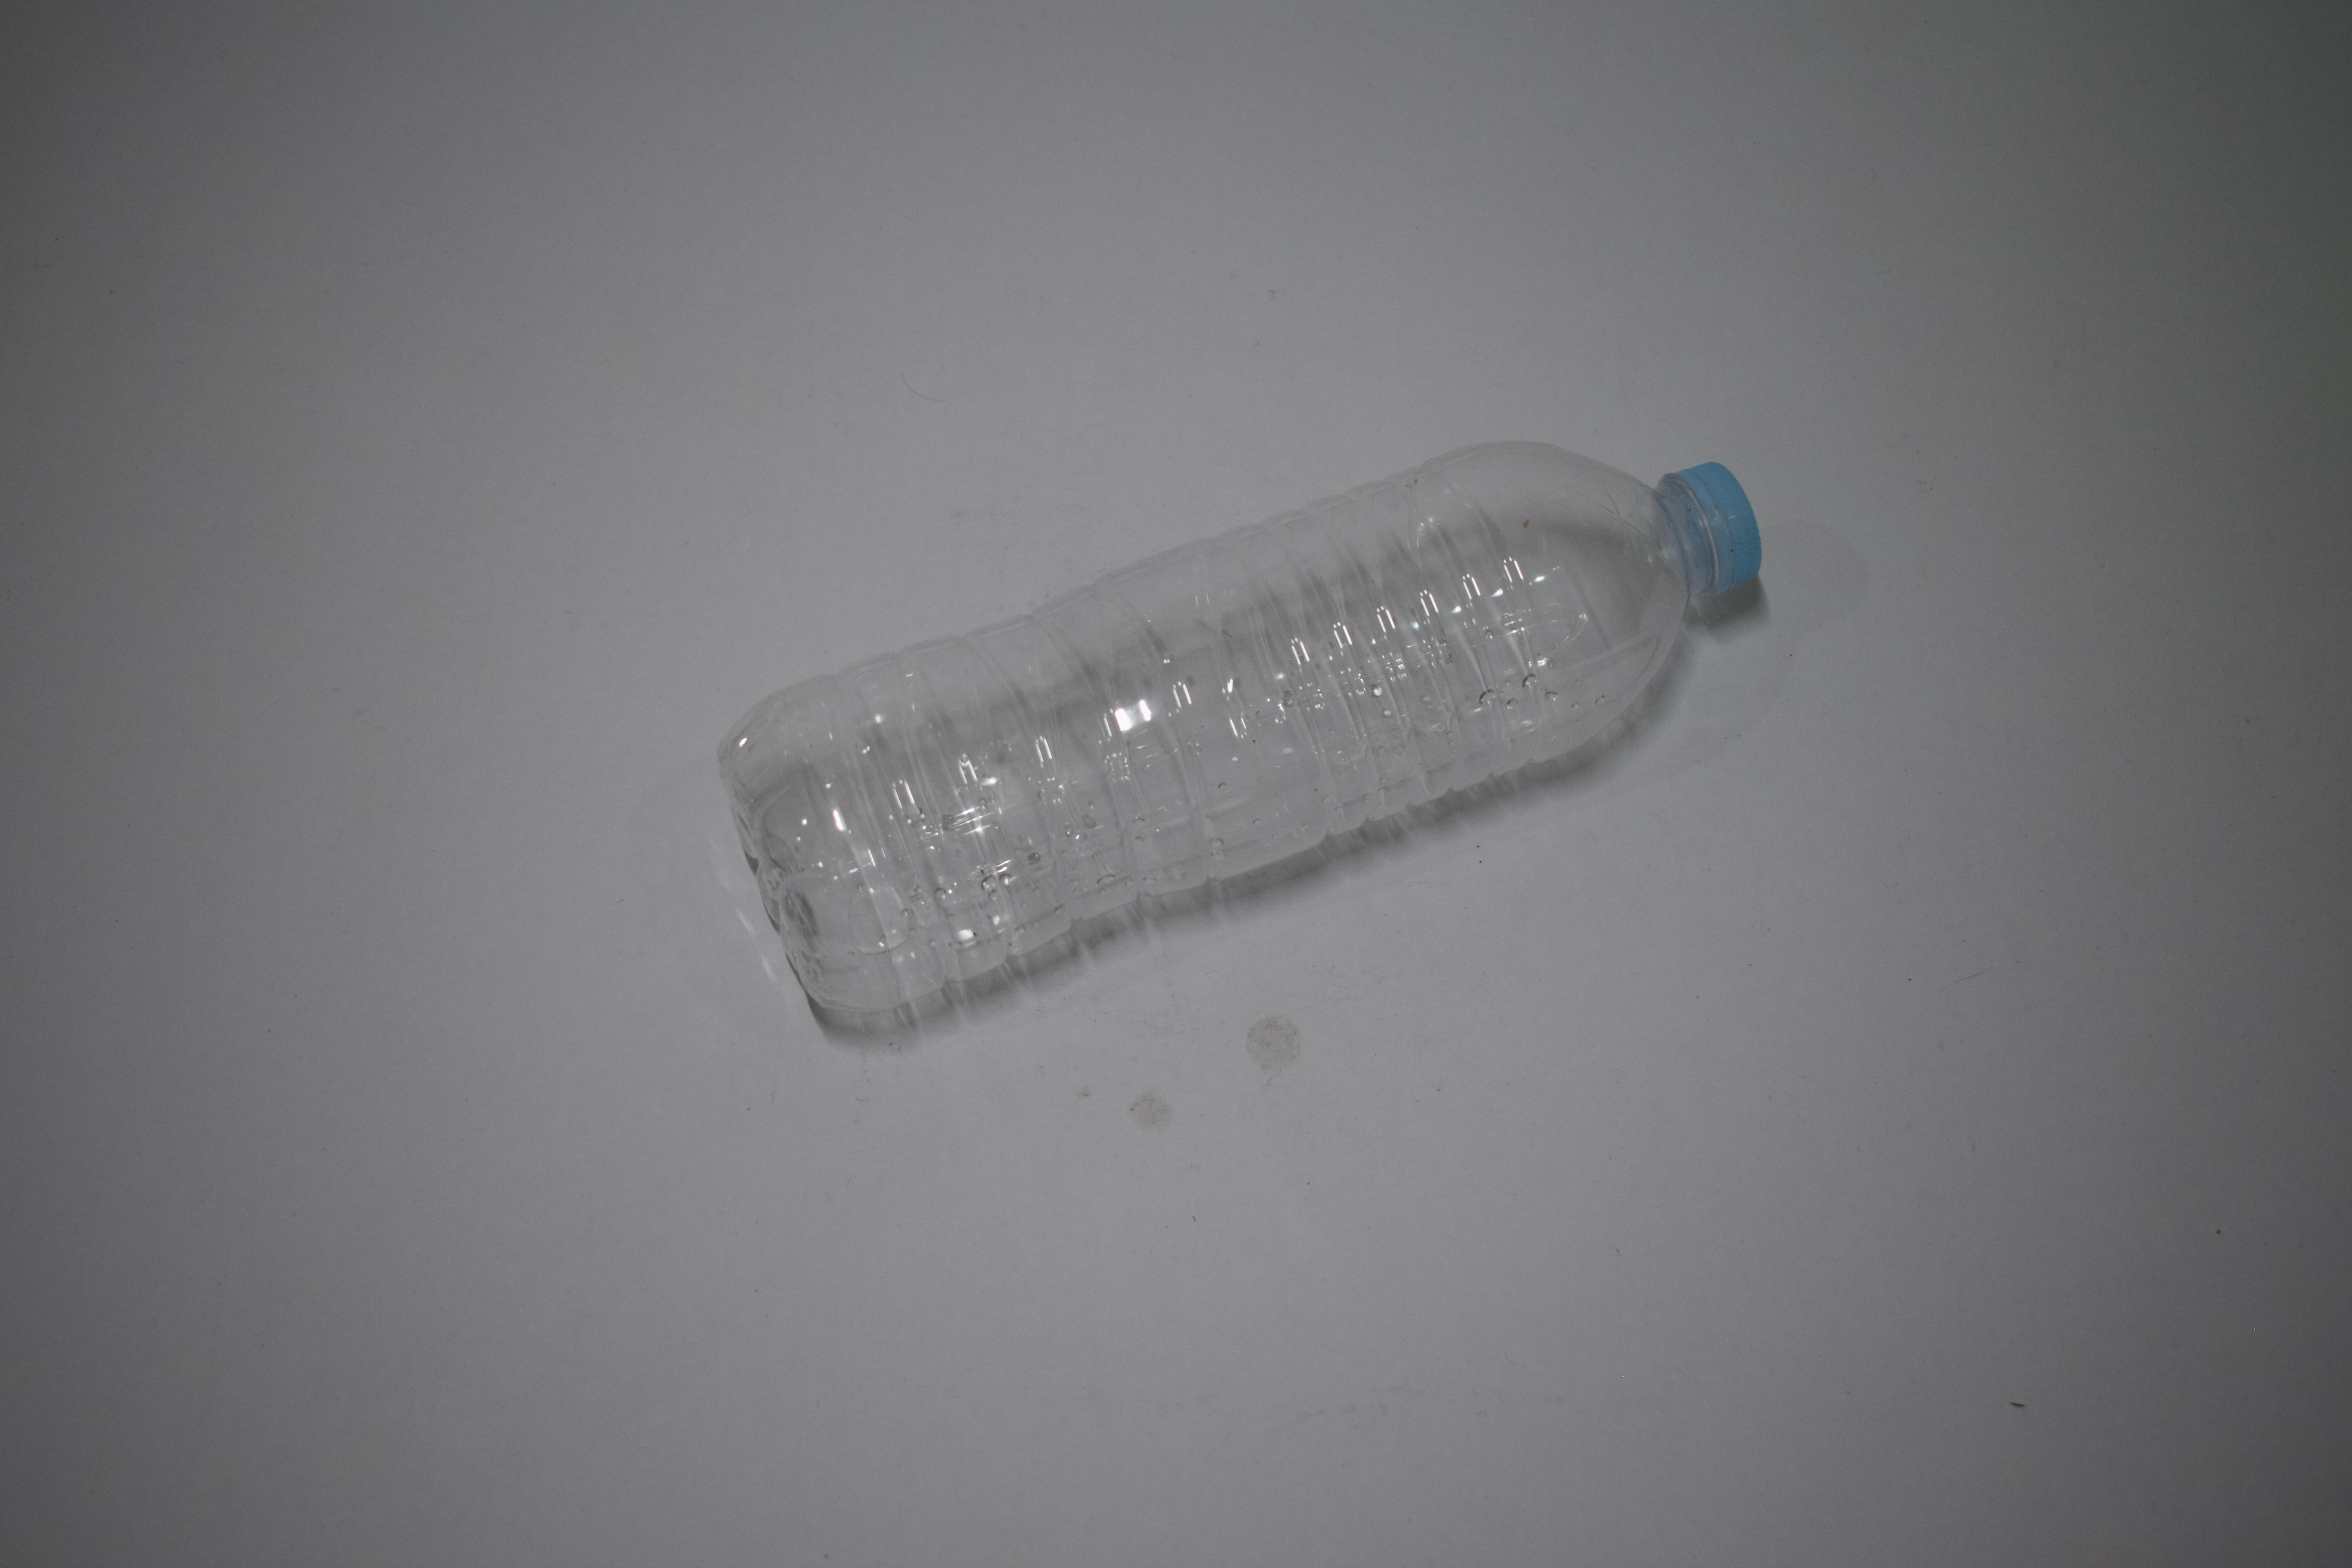bottle: (0, 418, 534, 1031)
